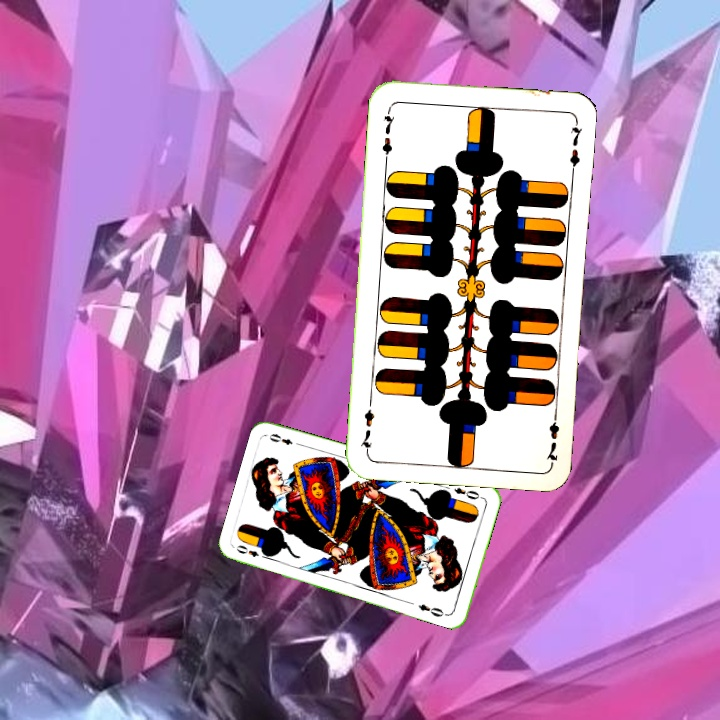E7: (542, 406, 562, 465), (378, 105, 397, 164)
EO: (449, 483, 485, 502), (232, 541, 261, 559)
